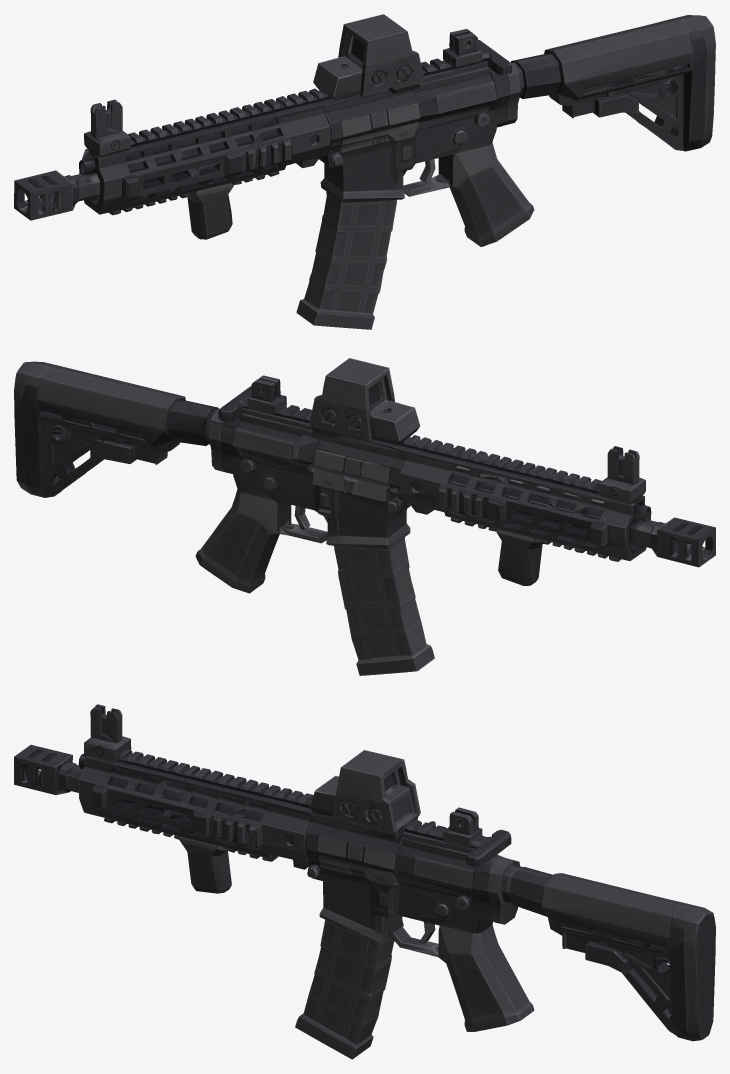
The model's file is Meshy_AI_roblox_ar556_lowpoly_1006184328_texture.fbx.
The picture shows the model from 3 angles, top to bottom: view 1: azimuth 30°, elevation 25°; view 2: azimuth 150°, elevation 25°; view 3: azimuth 330°, elevation 25°; orthographic projection.
Visible parts, largest first — view 1: output_unwrapped; view 2: output_unwrapped; view 3: output_unwrapped.
Part boxes in pixels (x1,y1,x2,y2): output_unwrapped: (14,14,715,329); output_unwrapped: (14,358,715,675); output_unwrapped: (14,704,715,1059).
Bounding box in the file's own units: 190 × 78.04 × 20.13.
Materials: 1 (1 with a texture image).
